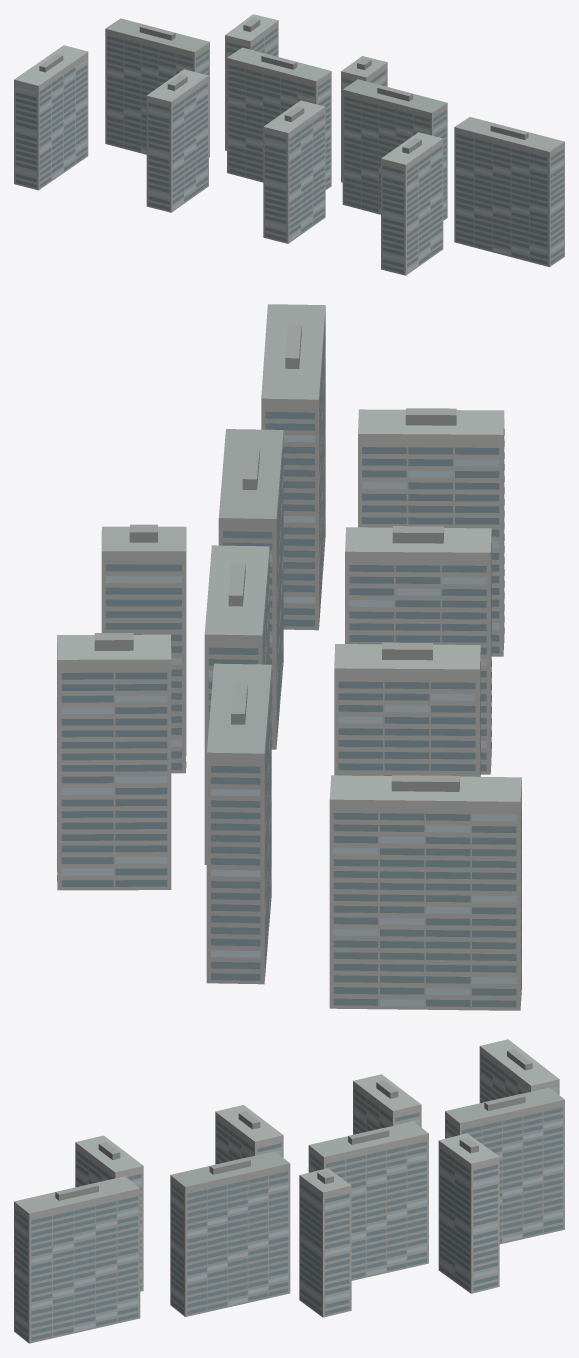
The model's file is apt-a13611201.glb.
3 views of the same model, one above another, from view 1: azimuth 30°, elevation 25°; view 2: azimuth 150°, elevation 25°; view 3: azimuth 270°, elevation 25° (orthographic). The views are drawn at different scales.
Visible parts, largest first — view 1: apt-a13611201; view 2: apt-a13611201; view 3: apt-a13611201.
Part boxes in pixels (x1,y1,x2,y2): apt-a13611201: [14, 14, 564, 275]; apt-a13611201: [57, 304, 521, 1010]; apt-a13611201: [14, 1039, 564, 1343].
Bounding box in the file's own units: 159 × 54 × 198.
